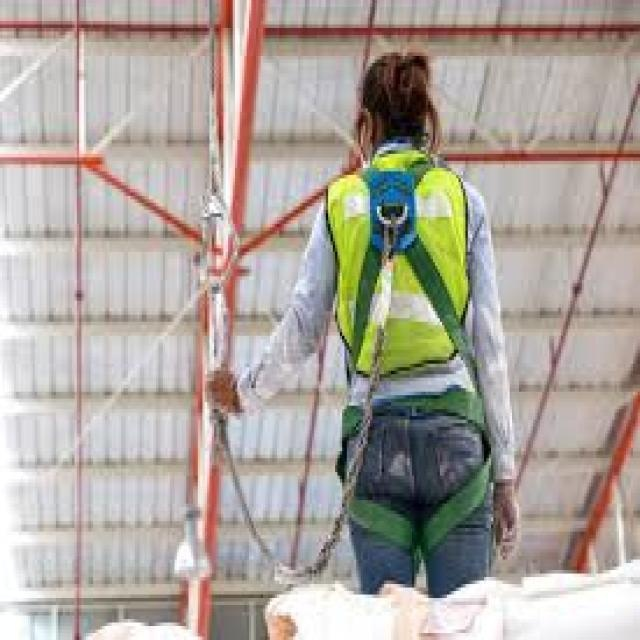Arnes_seguridad: (334, 148, 498, 548)
